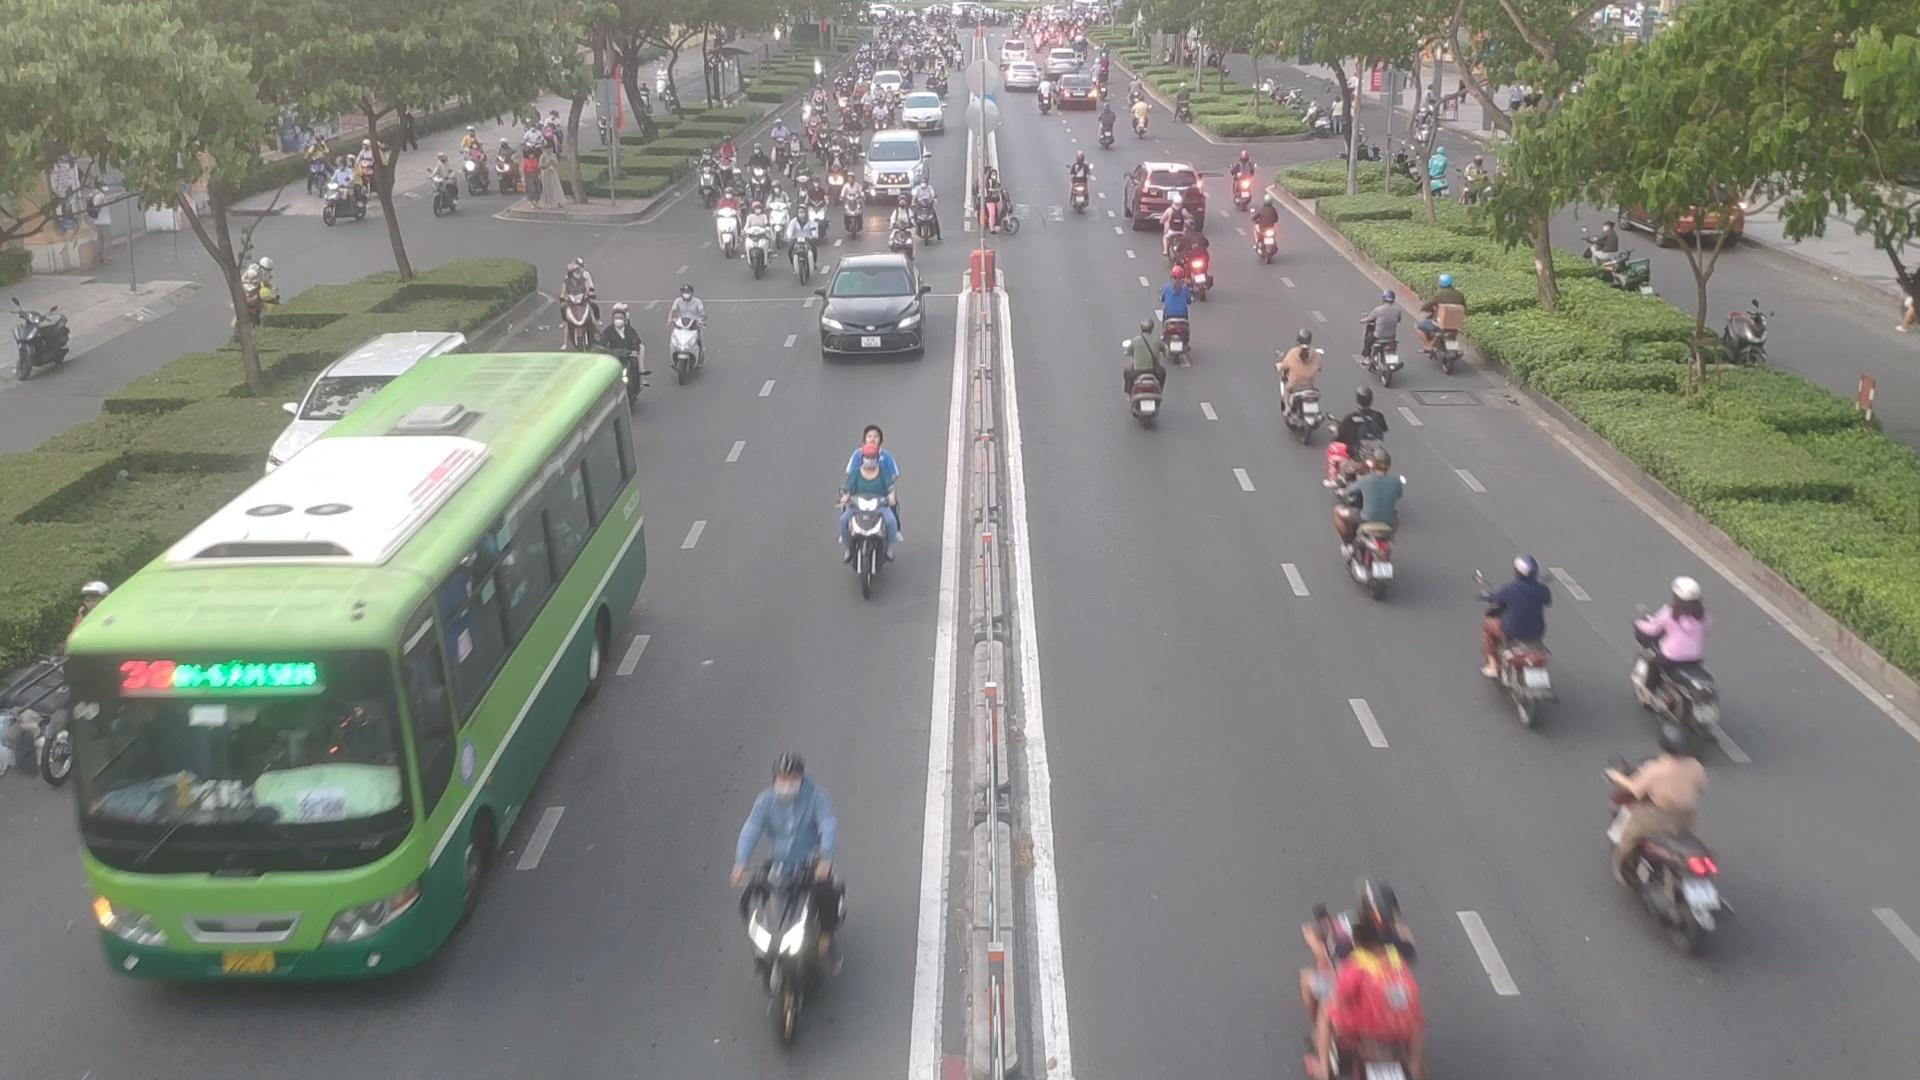bus: (73, 363, 640, 990)
car: (808, 260, 930, 363), (1125, 160, 1208, 232)
motorbike: (728, 764, 849, 1019), (1284, 887, 1429, 1076), (1605, 752, 1737, 956), (1636, 570, 1724, 749), (1473, 562, 1567, 724), (824, 433, 905, 592), (1320, 446, 1402, 596), (1113, 318, 1176, 425), (1271, 331, 1327, 439), (563, 273, 634, 355), (659, 284, 711, 378), (1420, 274, 1473, 364), (1362, 295, 1408, 386), (554, 268, 604, 349), (1166, 233, 1216, 307), (1247, 190, 1288, 266), (897, 185, 939, 247), (1059, 160, 1101, 220), (738, 211, 774, 277), (712, 198, 748, 257)
